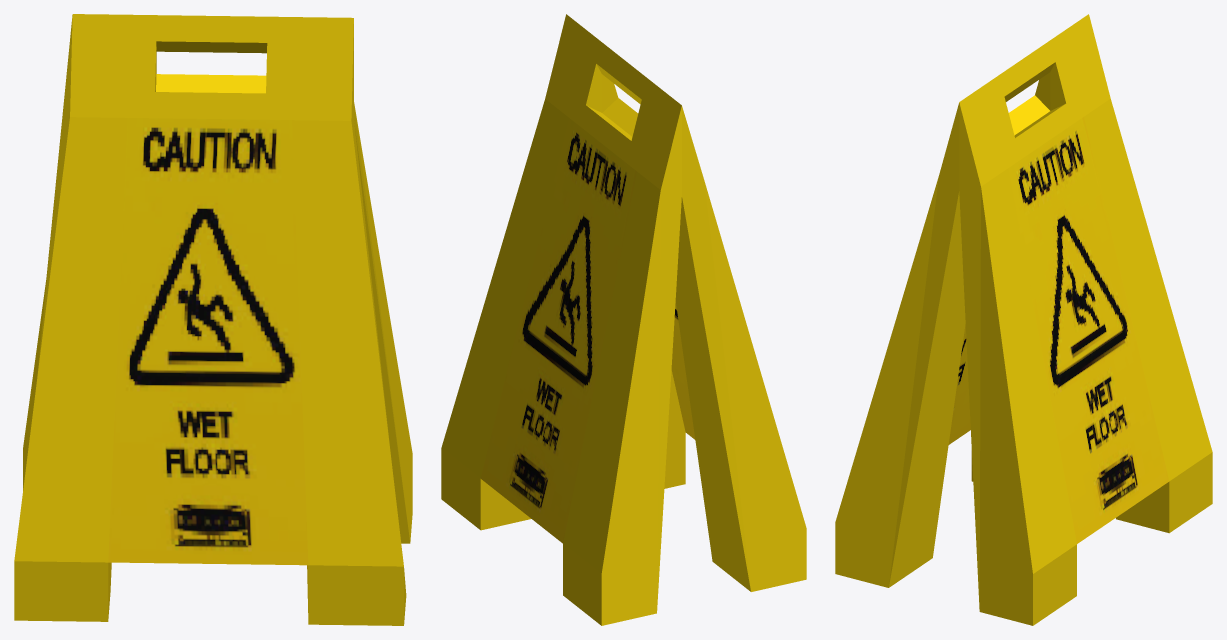
File: WetFloorSign.fbx
3 renders of one model, left to right at view 1: azimuth 30°, elevation 25°; view 2: azimuth 150°, elevation 25°; view 3: azimuth 270°, elevation 25°, orthographic. The views are drawn at different scales.
Parts seen in each view (by area): view 1: WetFloorSign; view 2: WetFloorSign; view 3: WetFloorSign.
Boxes of the visible parts, x1,y1,x2,y2 form: WetFloorSign: (14,14,412,625); WetFloorSign: (441,14,806,625); WetFloorSign: (835,14,1212,625).
Bounding box in the file's own units: 242 × 312 × 222.
Materials: 1 (1 with a texture image).
